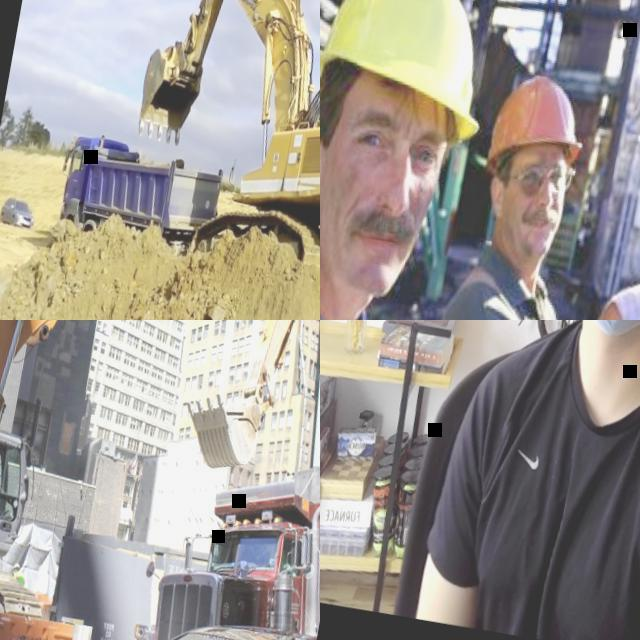helmet: (320, 0, 512, 128), (483, 64, 595, 186), (14, 562, 20, 570)
machinery: (0, 320, 320, 640), (120, 0, 320, 289), (52, 128, 228, 255)
no_mask: (320, 188, 427, 303), (498, 198, 568, 260)
no_vest: (468, 320, 640, 640)
person: (410, 320, 640, 640), (400, 62, 640, 320), (320, 0, 510, 320), (11, 562, 29, 586)
vehicle: (121, 457, 320, 640), (58, 592, 318, 640), (0, 192, 38, 227)
vest: (14, 571, 27, 585)
